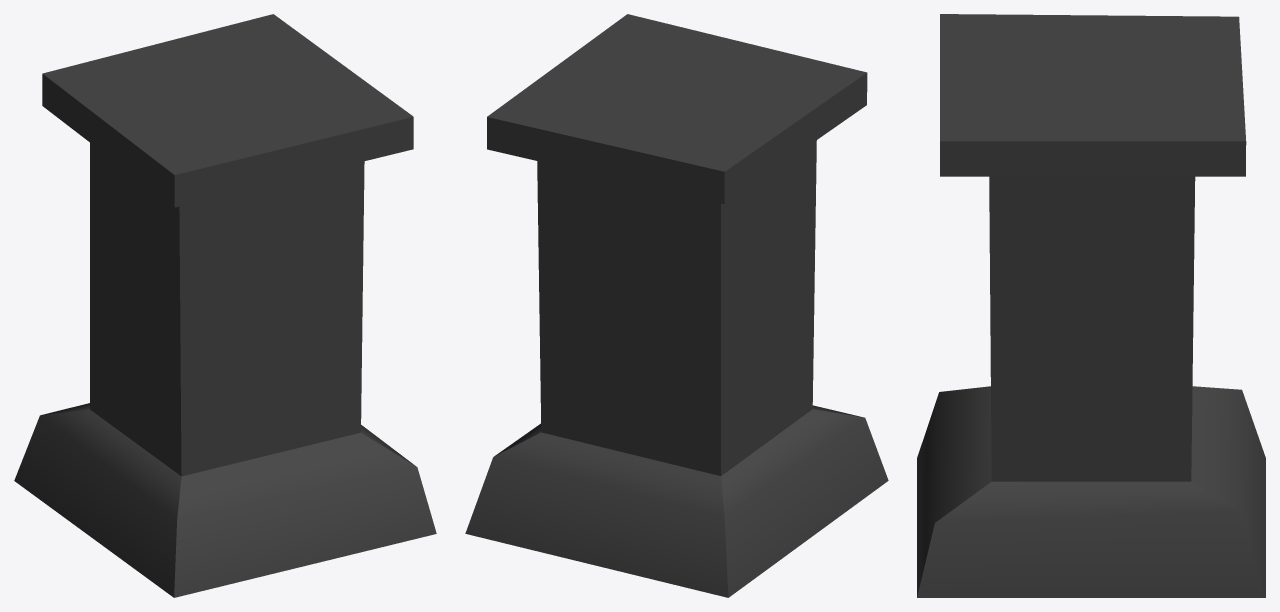
The model's file is platform.fbx.
3 renders of one model, left to right at view 1: azimuth 30°, elevation 25°; view 2: azimuth 150°, elevation 25°; view 3: azimuth 270°, elevation 25°, orthographic. The views are drawn at different scales.
Visible parts, largest first — view 1: Cylinder001; view 2: Cylinder001; view 3: Cylinder001.
Part boxes in pixels (x1=…): Cylinder001: x1=14, y1=14, x2=436, y2=597; Cylinder001: x1=465, y1=14, x2=888, y2=597; Cylinder001: x1=917, y1=14, x2=1265, y2=597.
Size of the model in its own units: 2.7 by 4.05 by 2.84.
Materials: 1 (1 with a texture image).
